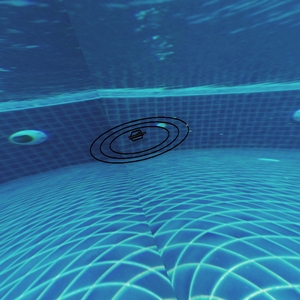circle: (88, 106, 203, 170)
submarine: (131, 131, 143, 140)
